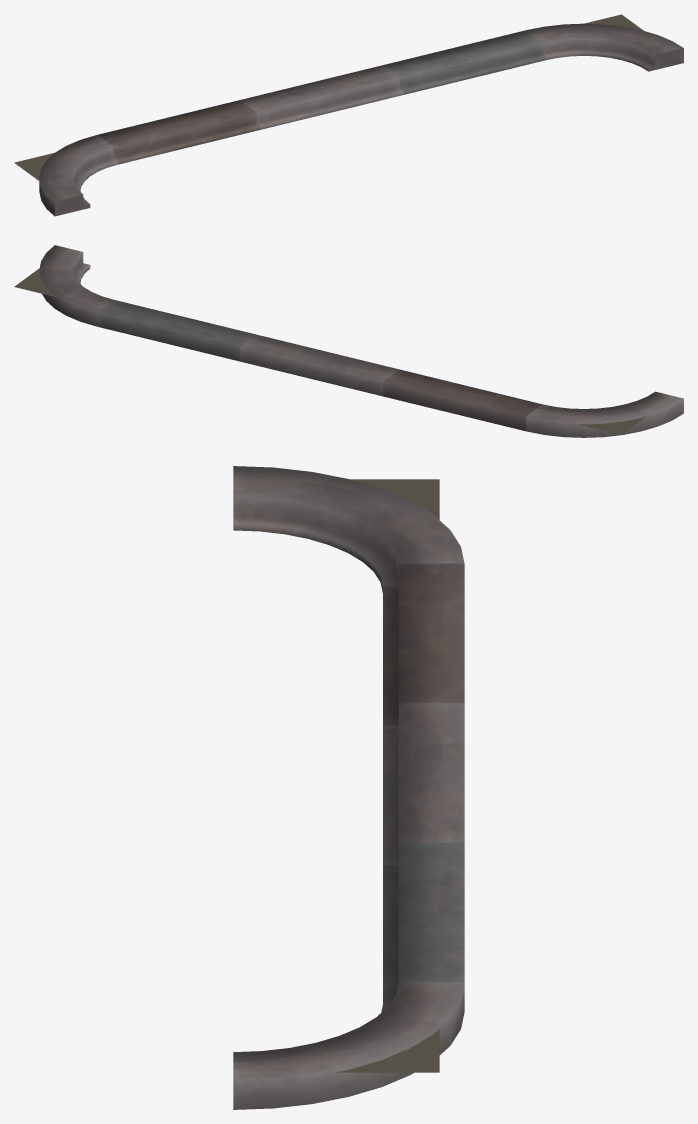
Rendered from Curb_Cap_8m.fbx.
The picture shows the model from 3 angles, top to bottom: view 1: azimuth 30°, elevation 25°; view 2: azimuth 150°, elevation 25°; view 3: azimuth 270°, elevation 25°; orthographic projection. The views are drawn at different scales.
Visible parts, largest first — view 1: Curb_Cap_8m; view 2: Curb_Cap_8m; view 3: Curb_Cap_8m.
Boxes of the visible parts, box(x1,y1,x2,y2) form: Curb_Cap_8m: box(14, 14, 683, 216); Curb_Cap_8m: box(14, 245, 683, 437); Curb_Cap_8m: box(233, 466, 464, 1109).
Size of what is drawn, in the model's own units: 8.8 by 0.2 by 1.4.
